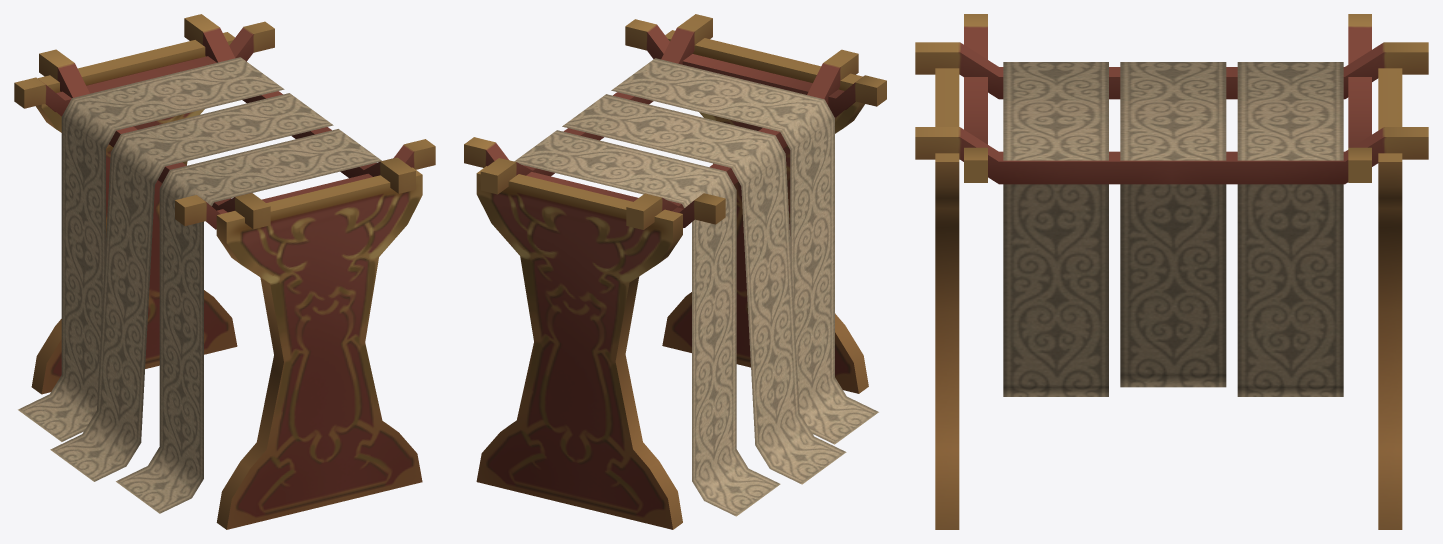
The model's file is FB_gongdain_08.FBX.
3 views of the same model, side by side, from view 1: azimuth 30°, elevation 25°; view 2: azimuth 150°, elevation 25°; view 3: azimuth 270°, elevation 25° (orthographic). The views are drawn at different scales.
Parts seen in each view (by area): view 1: Box12; view 2: Box12; view 3: Box12.
Boxes of the visible parts, left/top/right/bottom form: Box12: left=14, top=14, right=435, bottom=529; Box12: left=464, top=14, right=886, bottom=529; Box12: left=915, top=14, right=1428, bottom=529.
Size of the model in its own units: 4.98 by 5.54 by 6.7.
